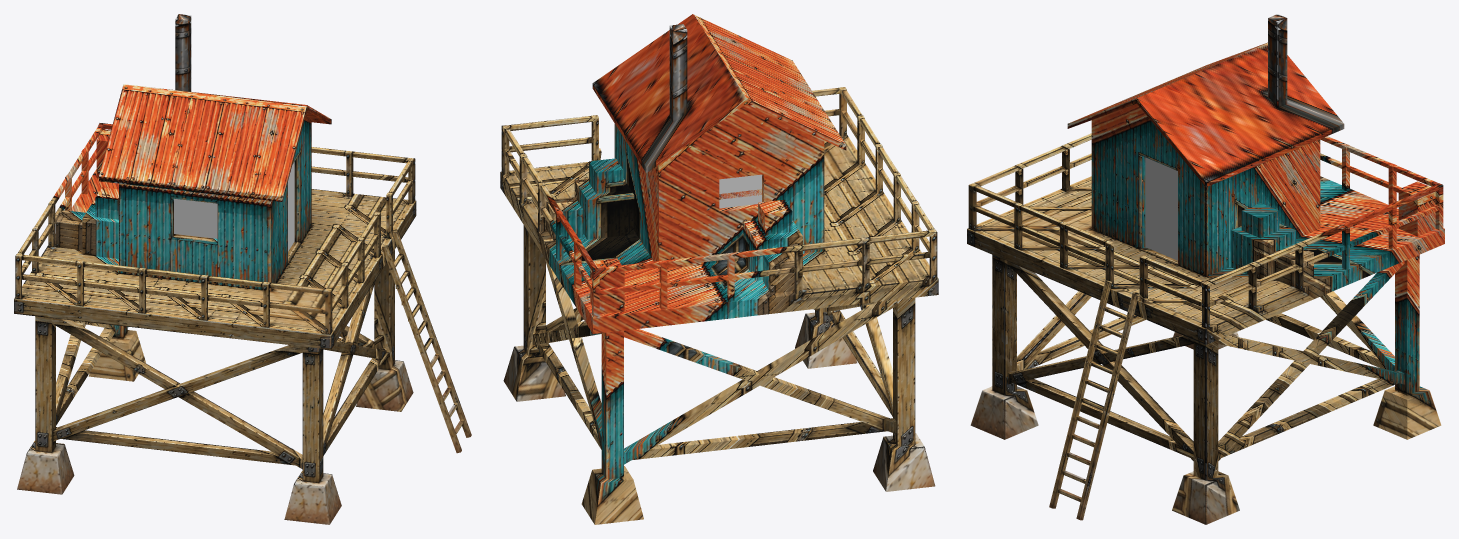
The model's file is start_tower.glb.
The picture shows the model from 3 angles, left to right: view 1: azimuth 30°, elevation 25°; view 2: azimuth 150°, elevation 25°; view 3: azimuth 270°, elevation 25°; orthographic projection. The views are drawn at different scales.
Parts seen in each view (by area): view 1: tower_game, inside_hut; view 2: tower_game, inside_hut; view 3: tower_game, inside_hut.
Boxes of the visible parts, x1=… form: tower_game: x1=14, y1=14, x2=471, y2=524; inside_hut: x1=174, y1=162, x2=294, y2=251; tower_game: x1=500, y1=14, x2=938, y2=524; inside_hut: x1=719, y1=174, x2=761, y2=208; tower_game: x1=967, y1=14, x2=1444, y2=524; inside_hut: x1=1145, y1=157, x2=1177, y2=260.
Size of the model in its own units: 9.9 by 9.35 by 9.9.
Materials: 1 (1 with a texture image).
